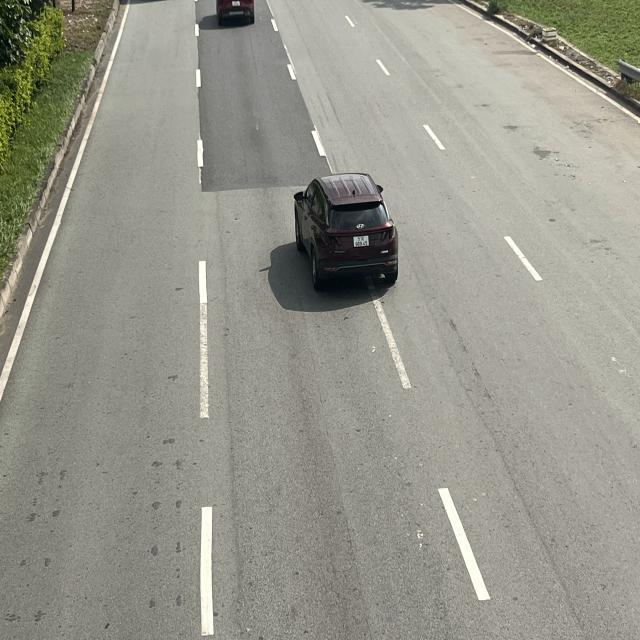car: (294, 171, 400, 287)
